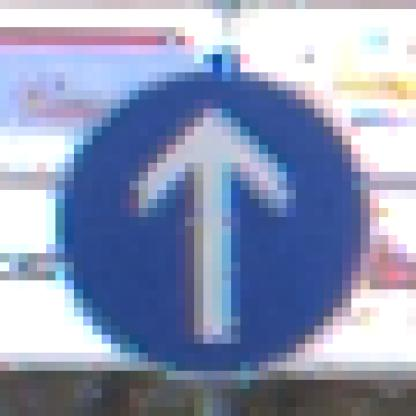AheadOnly: (47, 55, 371, 372)
